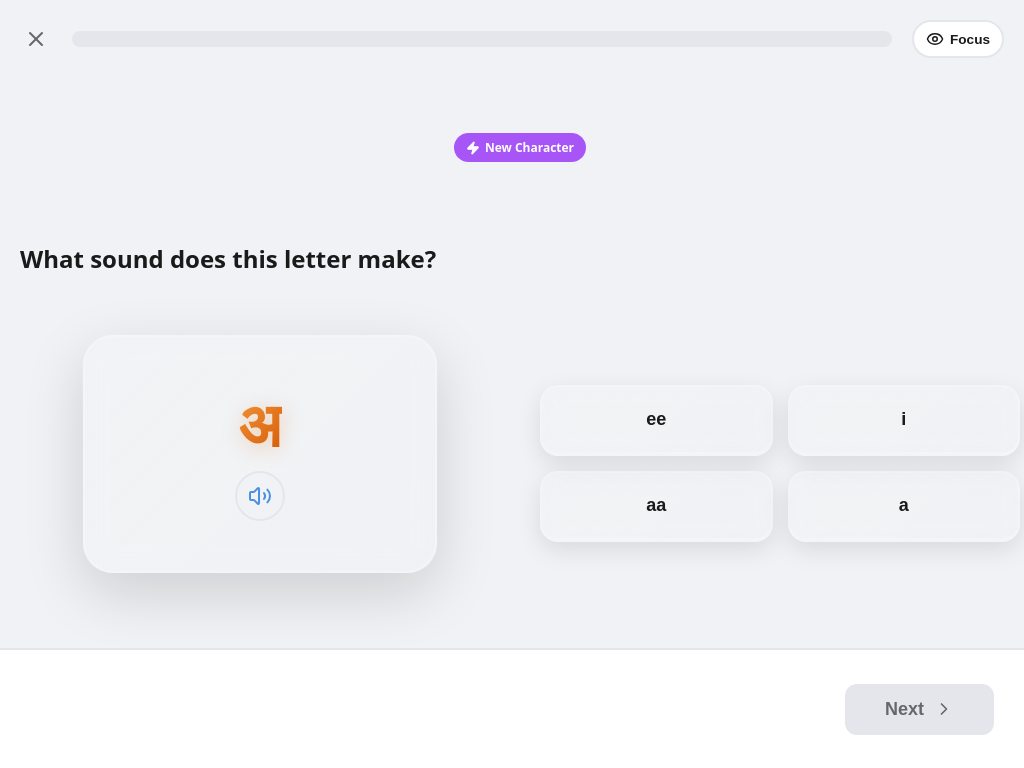
Test: LearningScreen Component Tests › Should handle incorrect answer selection
The width and height of the screenshot is (1024, 768).
Click the button "aa" at (656, 507), box [540,472,772,542]
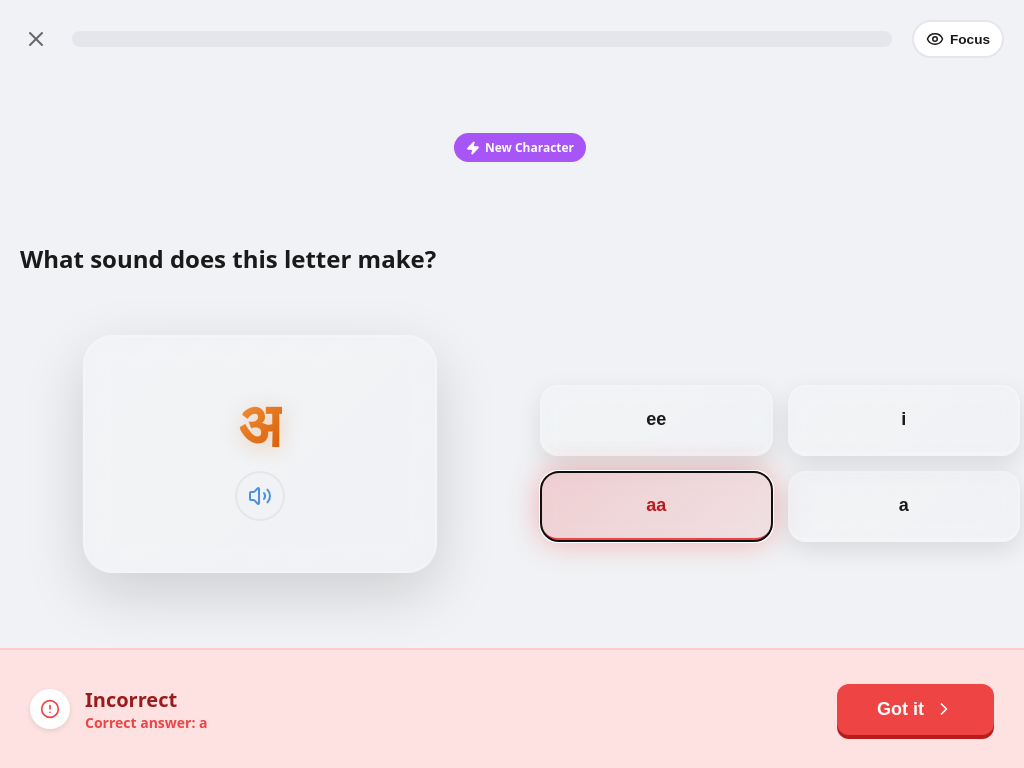
Expected: the text "Incorrect" is shown, [85,686,177,713]
Expected: the text "Correct answer: a" is shown, [85,713,208,732]
Expected: the button "Got it" is shown, [837,684,994,734]
